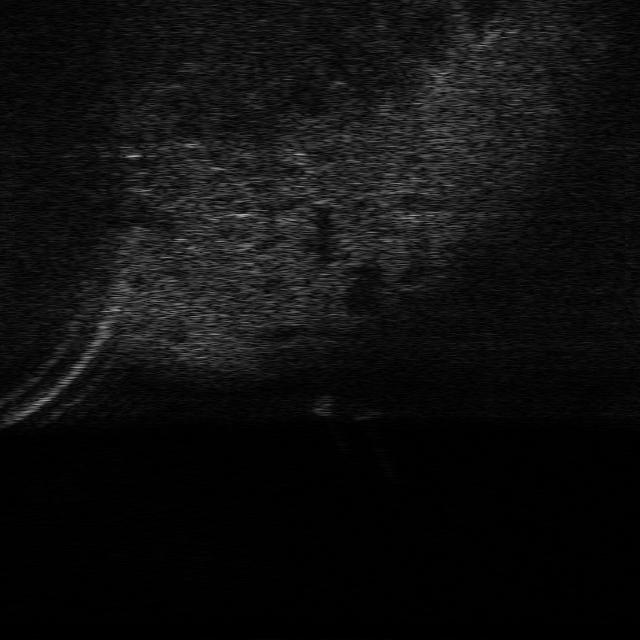cube: (349, 399, 380, 422)
cylinder: (310, 392, 335, 417)
